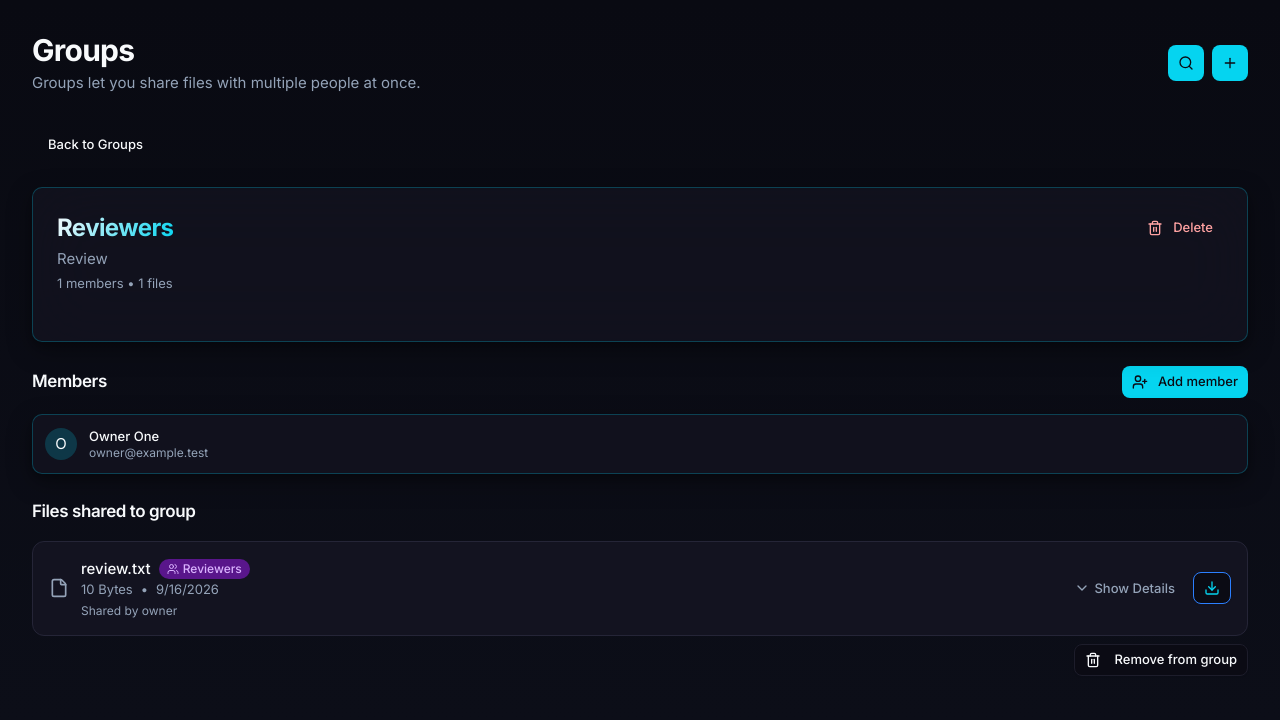
Test: Groups data state › confirms that removing a group file preserves independent access paths
This screenshot has width=1280, height=720.
Step 1. Click the button with aria-label "Remove review.txt from group" → {"x": 1161, "y": 660}, box [1074,644,1248,676]
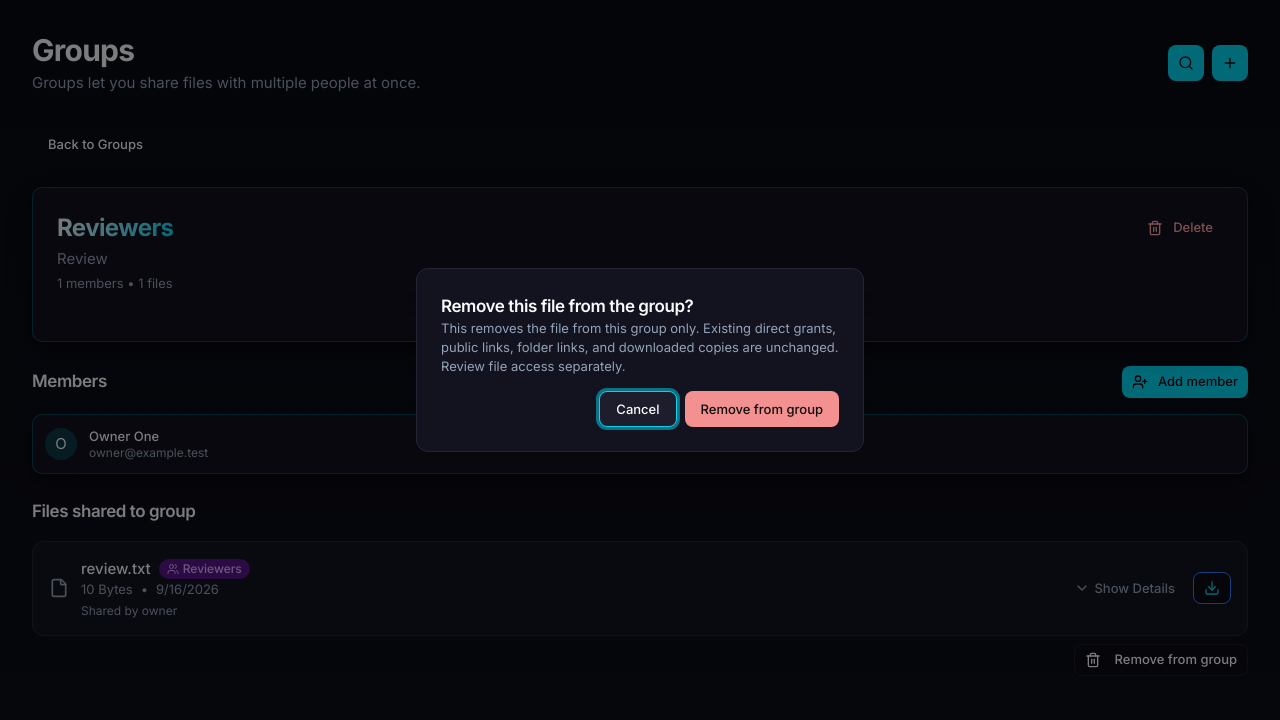
Check: the dialog "Remove this file from the group?" shows "Existing direct grants, public links, folder links, and downloaded copies are unchanged", box [441,320,838,374]
Step 2. Click the button "Remove from group" → {"x": 762, "y": 409}, box [684,391,839,427]
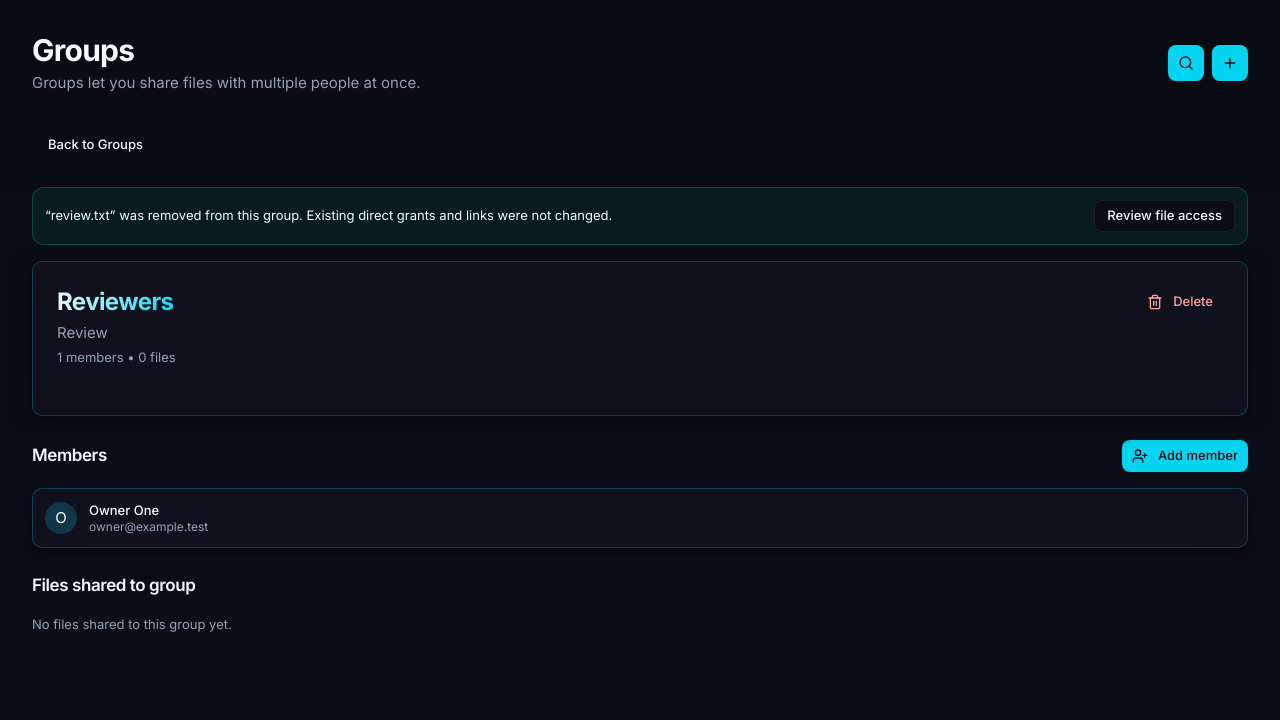
Check: the message shows "Existing direct grants and links were not changed", box [45,207,612,223]
